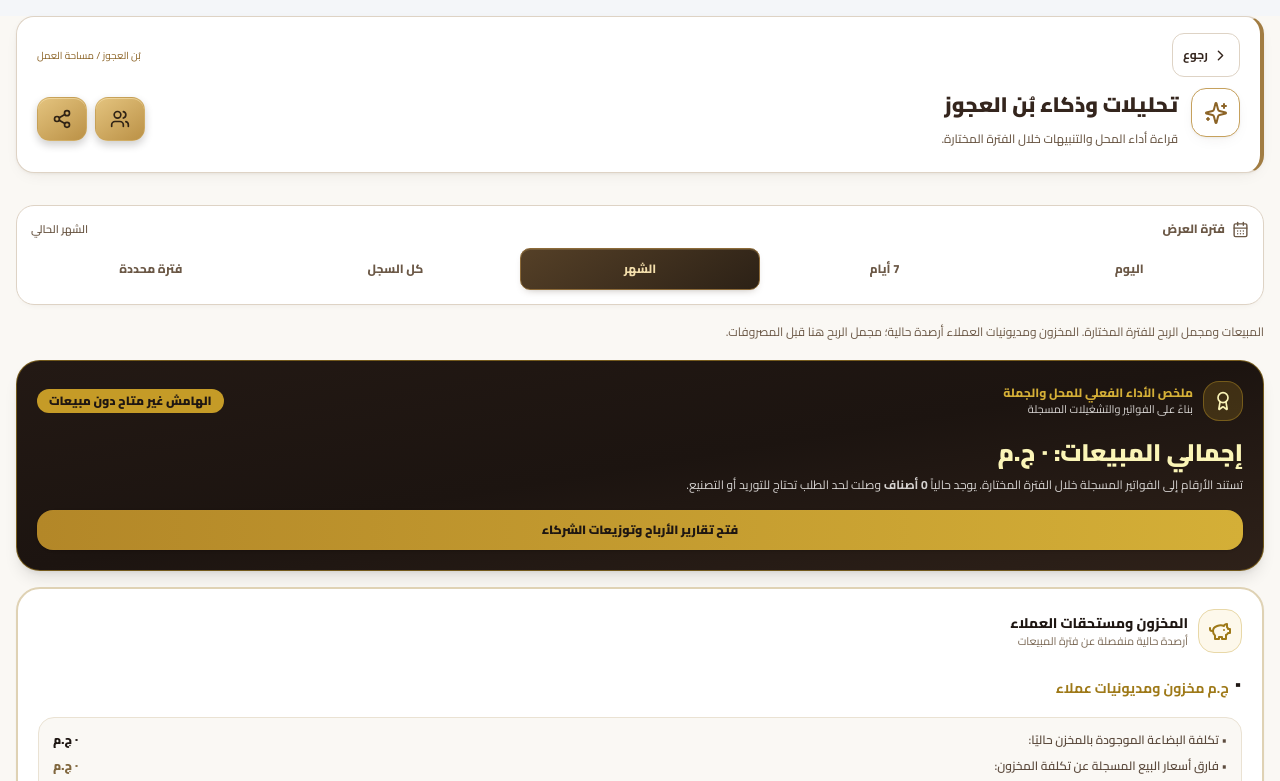
Test: filters insights when the selected period changes
This screenshot has width=1280, height=781.
Check: the text "إجمالي المبيعات:" does not show "١٢"
Click the button "كل السجل": (395, 269) [276, 248, 515, 290]
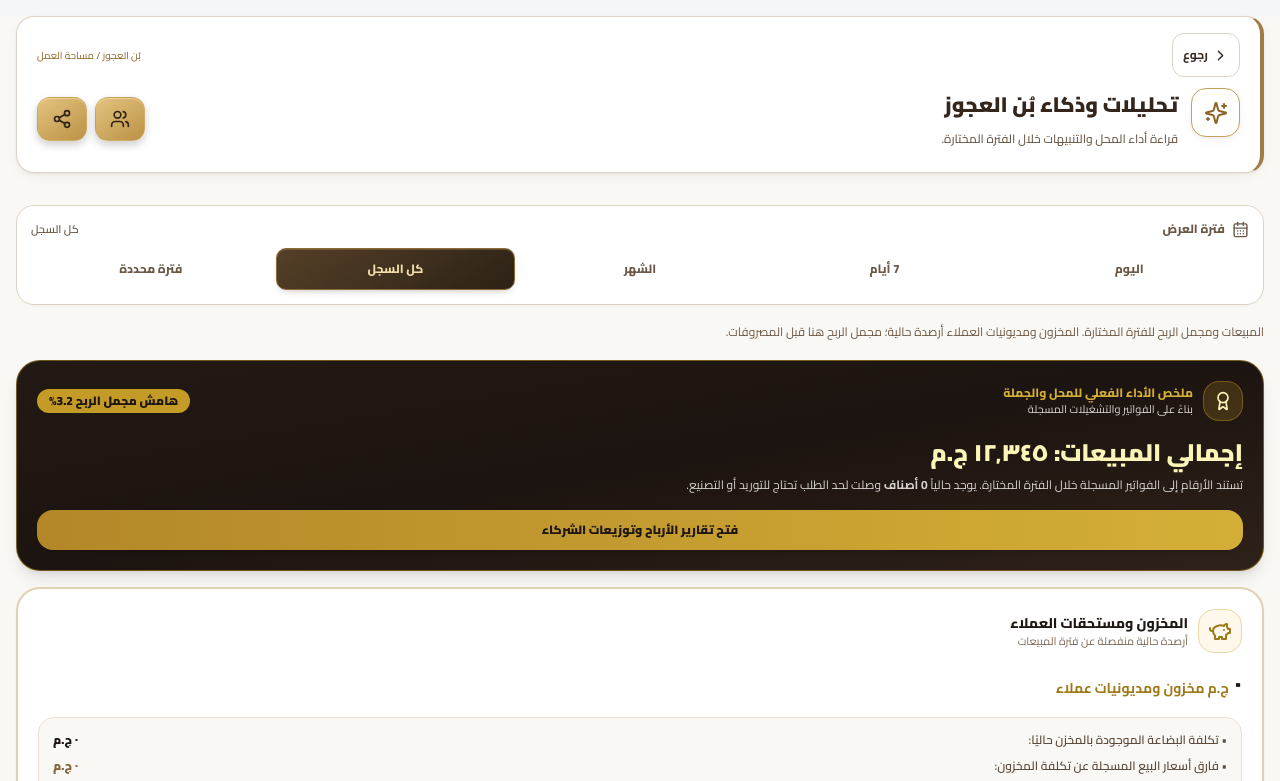
Check: the heading "إجمالي المبيعات: ١٢٬٣٤٥ ج.م" is shown, box [930, 430, 1243, 475]
